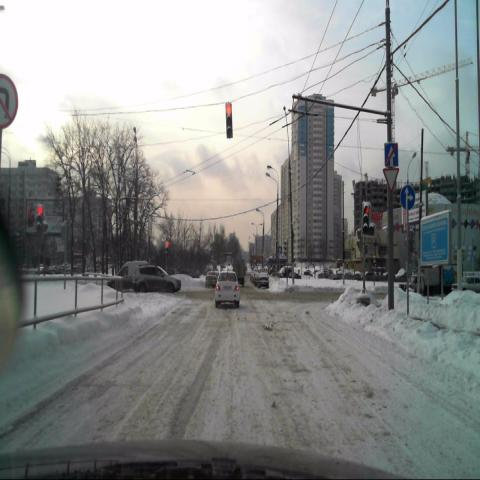2_4: (384, 168, 400, 194)
4_1_4: (399, 183, 415, 212)
5_6: (385, 144, 398, 168)
